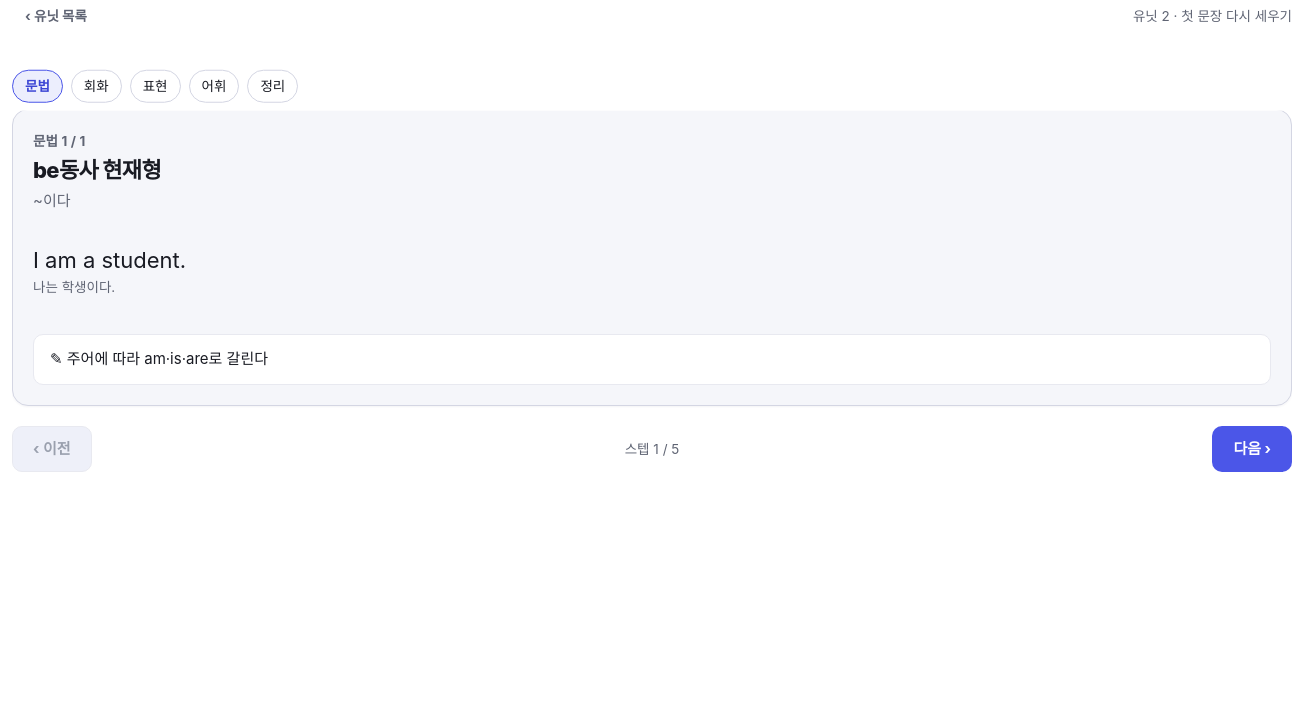
Test: 코스 완주 안내 (A-L5) › 받침 없는 코스명에는 '는'이 붙는다
The width and height of the screenshot is (1304, 720).
Click the button "정리" at (273, 86), box [247,70,298,102]
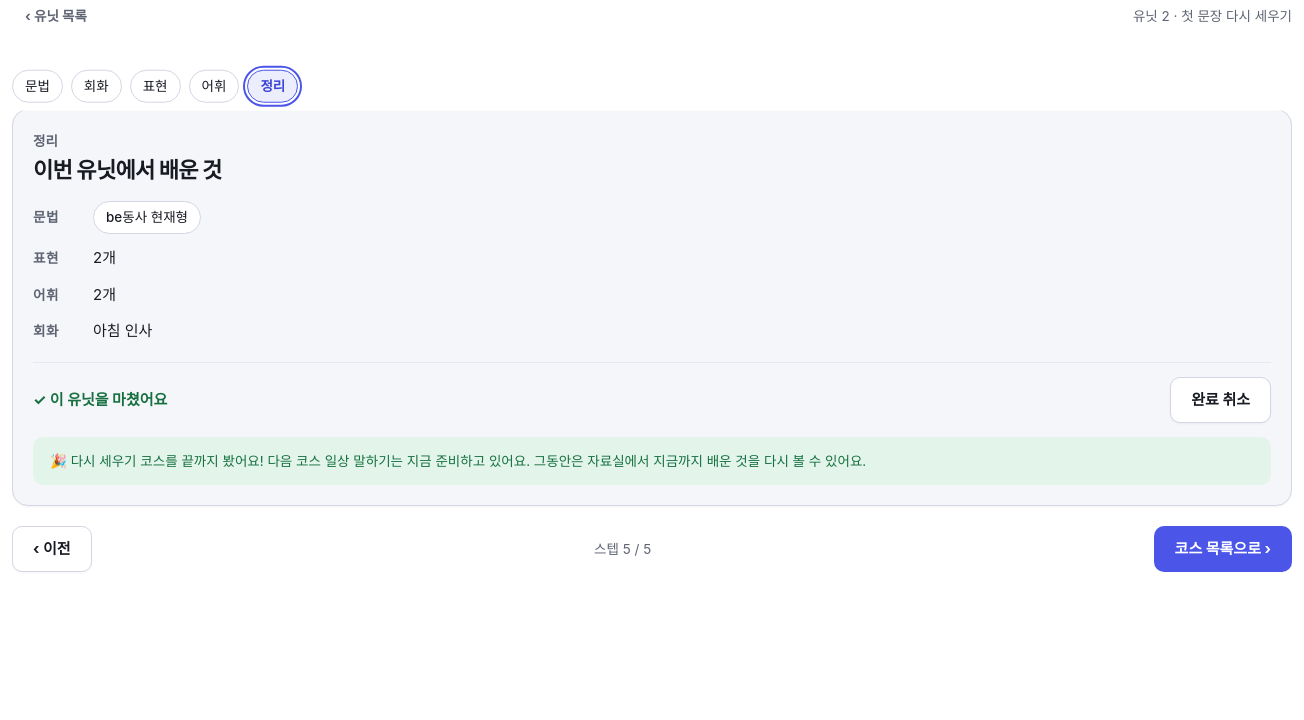
Expected: the text "일상 말하기는 지금 준비하고 있어요" is shown, [267,453,866,469]
